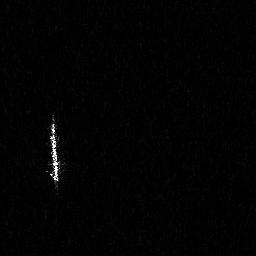ship: (45, 113, 62, 190)
